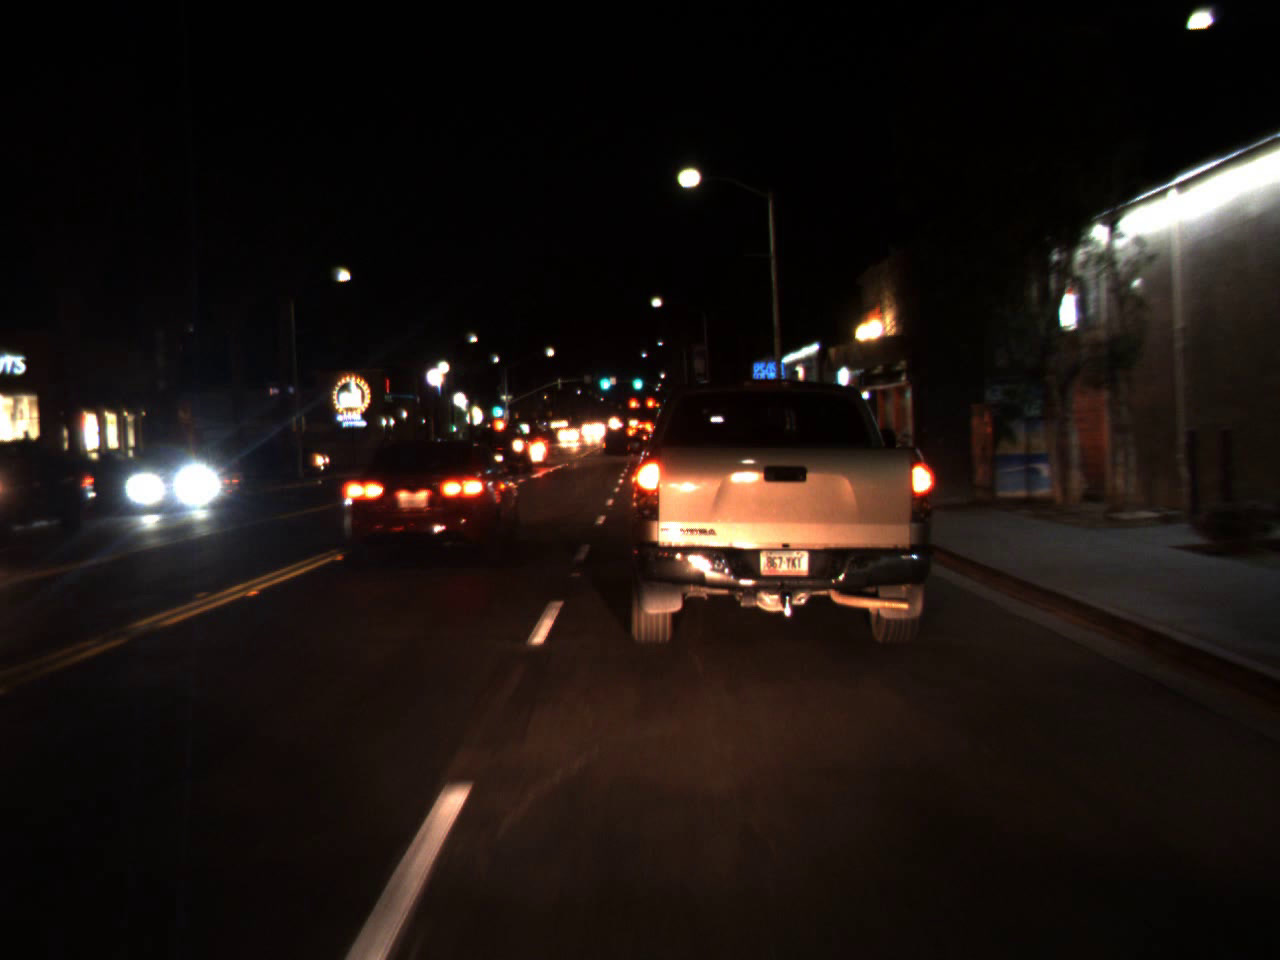go: (595, 364, 613, 394), (630, 366, 644, 393), (489, 396, 503, 417)
